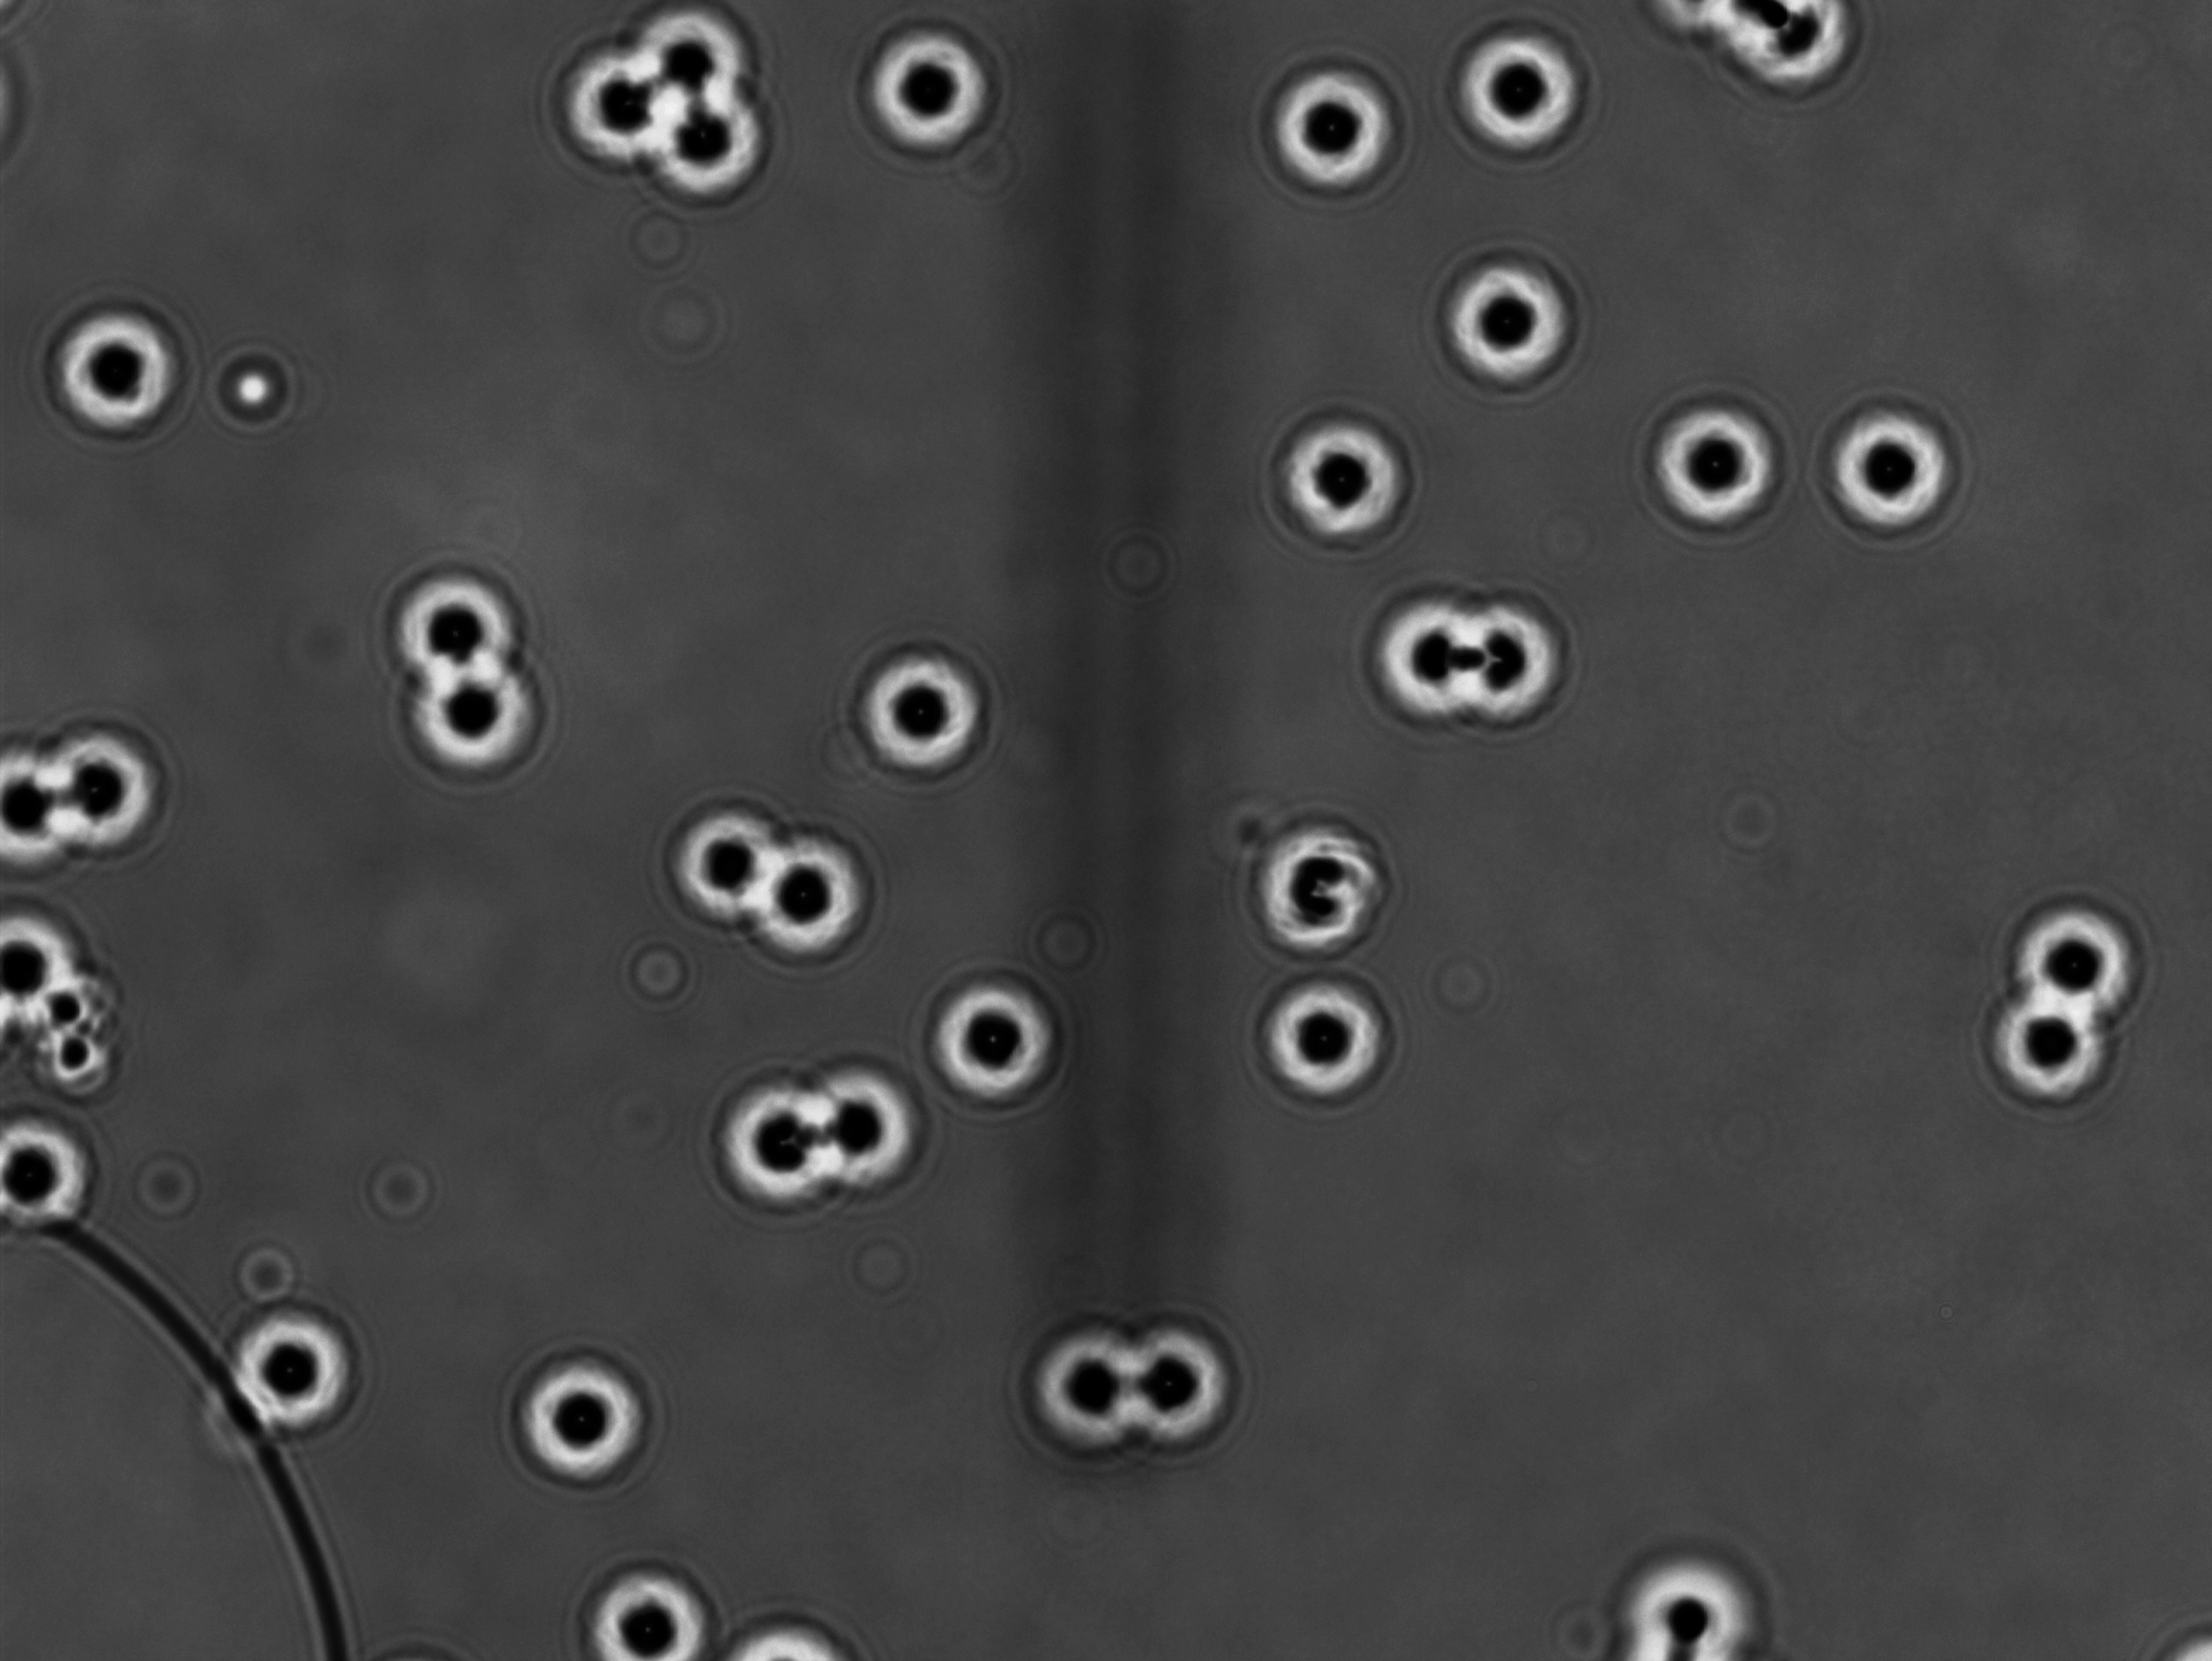depth:-20: (1996, 865, 2175, 1042), (1230, 806, 1403, 963), (1116, 1302, 1275, 1471), (1260, 393, 1418, 557), (202, 1277, 377, 1425), (1010, 1303, 1171, 1462), (1964, 961, 2133, 1111), (700, 1057, 857, 1218), (855, 19, 1021, 169), (504, 1343, 659, 1500), (1423, 232, 1579, 389), (1249, 956, 1399, 1117), (1256, 45, 1410, 201), (1636, 389, 1793, 541), (37, 291, 190, 445), (1441, 19, 1600, 167), (658, 780, 811, 932), (1375, 583, 1525, 736), (1814, 389, 1963, 544), (844, 637, 993, 790), (399, 642, 550, 790), (919, 970, 1069, 1118), (797, 1047, 937, 1197), (642, 87, 785, 223), (384, 557, 529, 691), (551, 26, 686, 169), (754, 834, 881, 968)
